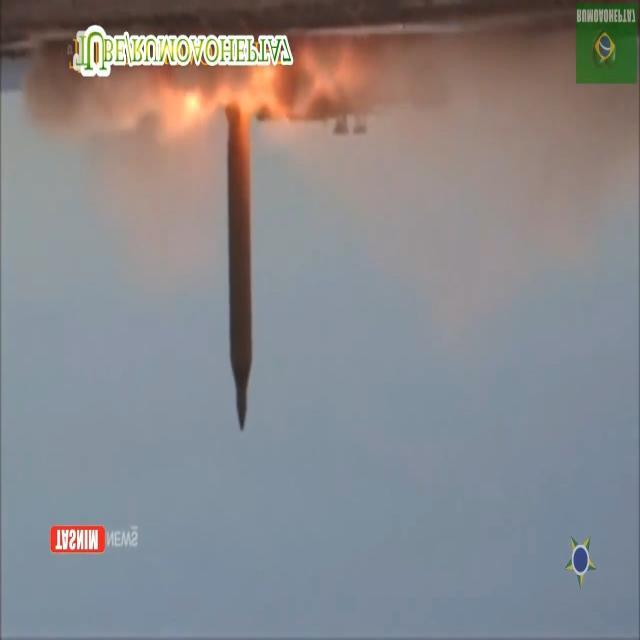Missile: (220, 90, 256, 448)
